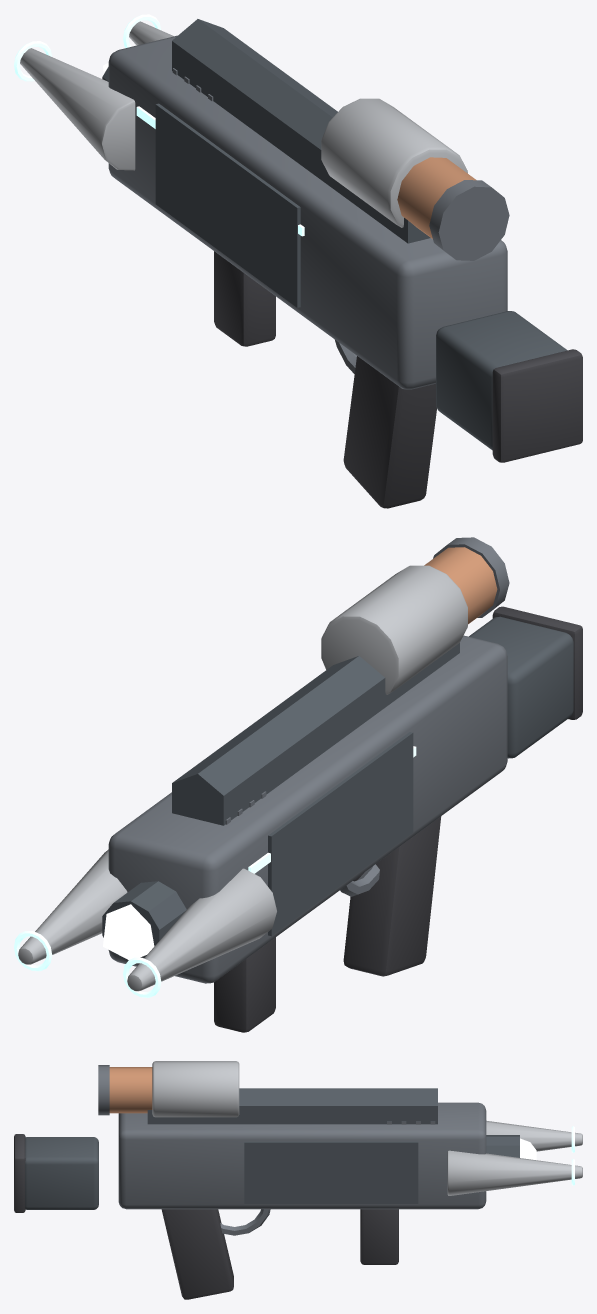
File: GravityGun.fbx
The picture shows the model from 3 angles, top to bottom: view 1: azimuth 30°, elevation 25°; view 2: azimuth 150°, elevation 25°; view 3: azimuth 270°, elevation 25°; orthographic projection. The views are drawn at different scales.
Visible parts, largest first — view 1: GravityGun; view 2: GravityGun; view 3: GravityGun.
Part boxes in pixels (x1,y1,x2,y2): GravityGun: (14,14,582,508); GravityGun: (14,537,582,1032); GravityGun: (14,1061,582,1299).
Bounding box in the file's own units: 12.95 × 26.33 × 58.8.
